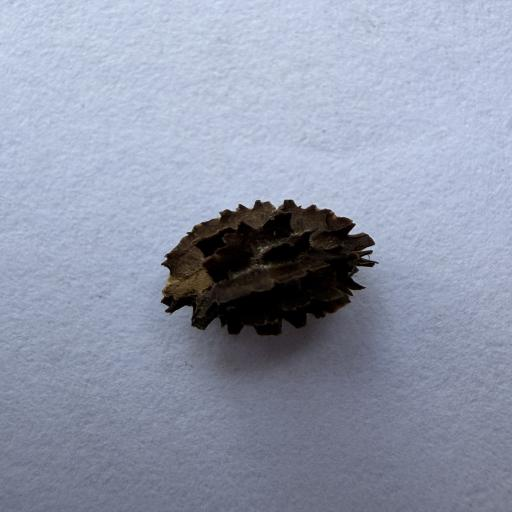papaya_seed: (142, 179, 402, 358)
